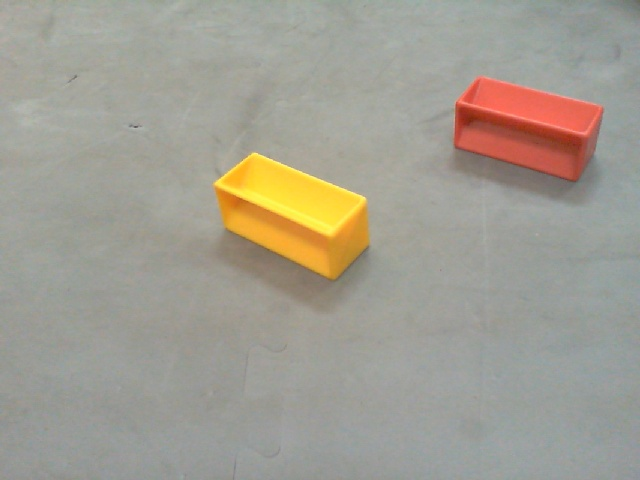RedSample: (453, 76, 606, 183)
YellowSample: (211, 151, 371, 283)
